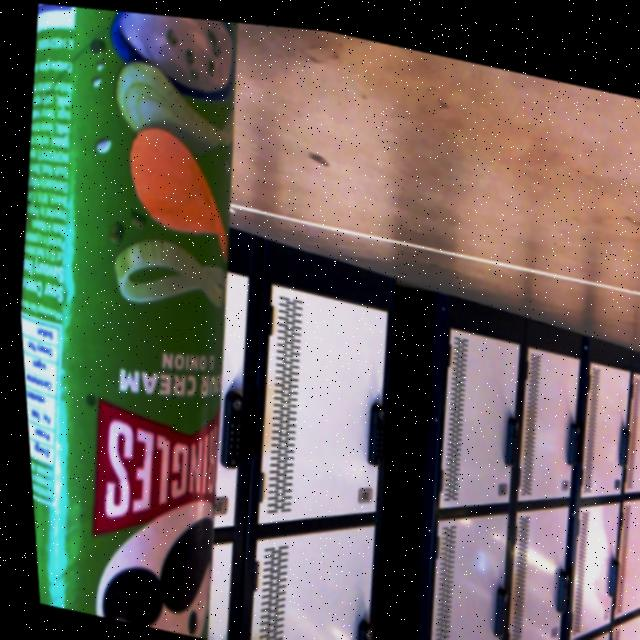greenpringles: (0, 0, 292, 640)
